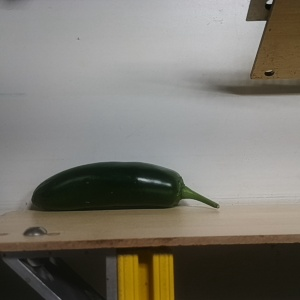Cut Point: (162, 168, 192, 207)
